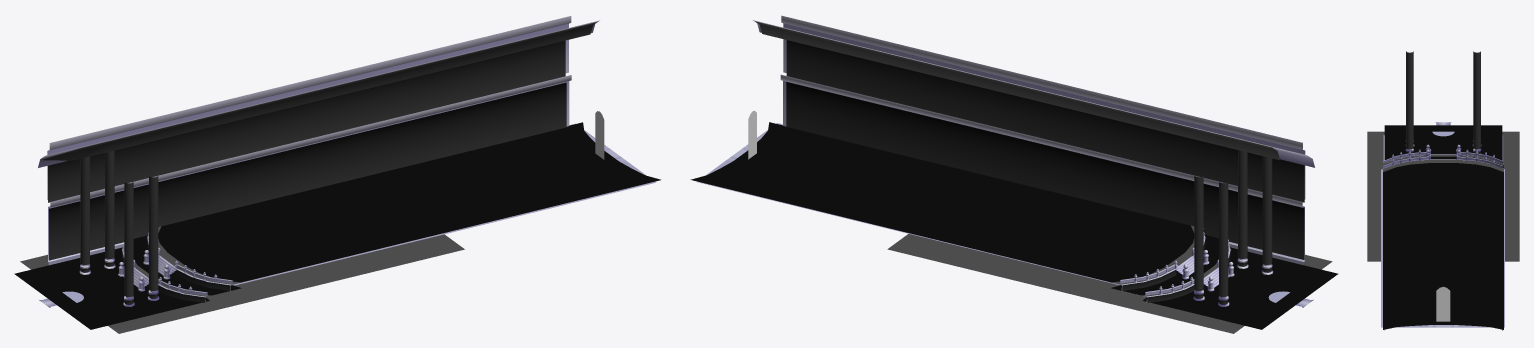
File: 06Ending.gltf
3 views of the same model, side by side, from view 1: azimuth 30°, elevation 25°; view 2: azimuth 150°, elevation 25°; view 3: azimuth 270°, elevation 25° (orthographic). The views are drawn at different scales.
Parts seen in each view (by area): view 1: stg070_k06_Mesh_0001, stg070_g06_Mesh_0000, stg070_o06_Mesh_0041, stg070_w06_Mesh_0000, stg070_o06_Mesh_0023; view 2: stg070_k06_Mesh_0001, stg070_g06_Mesh_0000, stg070_o06_Mesh_0041, stg070_w06_Mesh_0000, stg070_o06_Mesh_0023; view 3: stg070_g06_Mesh_0000, stg070_w06_Mesh_0000, stg070_k06_Mesh_0001, stg070_o06_Mesh_0041, stg070_p06_Mesh_0000, stg070_o06_Mesh_0000, stg070_w06_Mesh_0000.001, stg070_o06_Mesh_0023.
Part boxes in pixels (left/top/right/bottom): stg070_k06_Mesh_0001: left=42, top=22, right=597, bottom=304; stg070_g06_Mesh_0000: left=14, top=111, right=660, bottom=329; stg070_o06_Mesh_0041: left=39, top=16, right=655, bottom=307; stg070_w06_Mesh_0000: left=20, top=226, right=464, bottom=333; stg070_o06_Mesh_0023: left=38, top=20, right=599, bottom=293; stg070_k06_Mesh_0001: left=755, top=21, right=1304, bottom=304; stg070_g06_Mesh_0000: left=690, top=110, right=1338, bottom=329; stg070_o06_Mesh_0041: left=697, top=15, right=1313, bottom=307; stg070_w06_Mesh_0000: left=887, top=225, right=1332, bottom=333; stg070_o06_Mesh_0023: left=752, top=20, right=1314, bottom=293; stg070_g06_Mesh_0000: left=1383, top=125, right=1503, bottom=329; stg070_w06_Mesh_0000: left=1367, top=131, right=1519, bottom=261; stg070_k06_Mesh_0001: left=1406, top=51, right=1480, bottom=153; stg070_o06_Mesh_0041: left=1381, top=122, right=1504, bottom=327; stg070_p06_Mesh_0000: left=1383, top=152, right=1503, bottom=168; stg070_o06_Mesh_0000: left=1384, top=148, right=1502, bottom=330; stg070_w06_Mesh_0000.001: left=1382, top=154, right=1503, bottom=168; stg070_o06_Mesh_0023: left=1392, top=149, right=1494, bottom=165.
Size of the model in its own units: 355 by 87.09 by 105.
